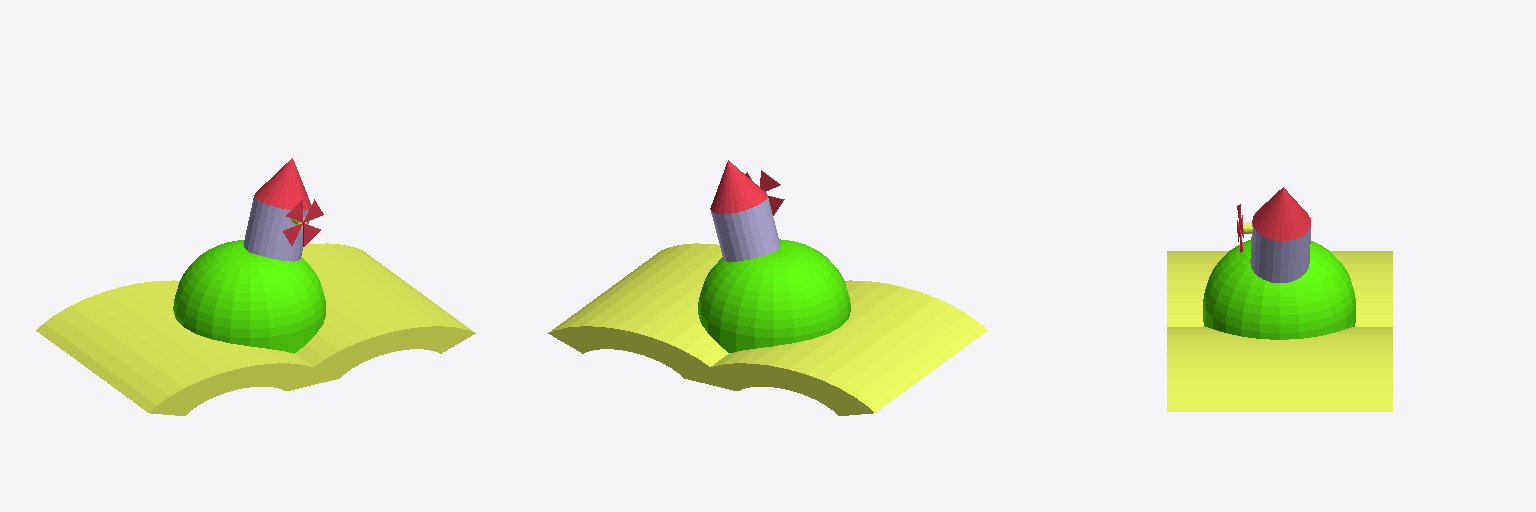
Rendered from MoinhoCor.obj.
The picture shows the model from 3 angles: view 1: azimuth 30°, elevation 25°; view 2: azimuth 150°, elevation 25°; view 3: azimuth 270°, elevation 25°; orthographic projection.
Parts seen in each view (by area): view 1: Mesh1 Group1 Model, Mesh2 Group2 Model, Mesh5 Group5 Model, Mesh4 Group4 Model; view 2: Mesh1 Group1 Model, Mesh2 Group2 Model, Mesh5 Group5 Model; view 3: Mesh1 Group1 Model, Mesh2 Group2 Model, Mesh5 Group5 Model.
Part boxes in pixels (left/top/right/bottom): Mesh1 Group1 Model: left=36, top=243, right=475, bottom=415; Mesh2 Group2 Model: left=173, top=240, right=325, bottom=353; Mesh5 Group5 Model: left=243, top=158, right=311, bottom=261; Mesh4 Group4 Model: left=283, top=199, right=323, bottom=246; Mesh1 Group1 Model: left=548, top=243, right=987, bottom=415; Mesh2 Group2 Model: left=698, top=239, right=850, bottom=352; Mesh5 Group5 Model: left=710, top=160, right=780, bottom=261; Mesh1 Group1 Model: left=1167, top=251, right=1392, bottom=411; Mesh2 Group2 Model: left=1203, top=240, right=1355, bottom=339; Mesh5 Group5 Model: left=1250, top=187, right=1310, bottom=282.
Bounding box in the file's own units: 1322 × 678 × 792.